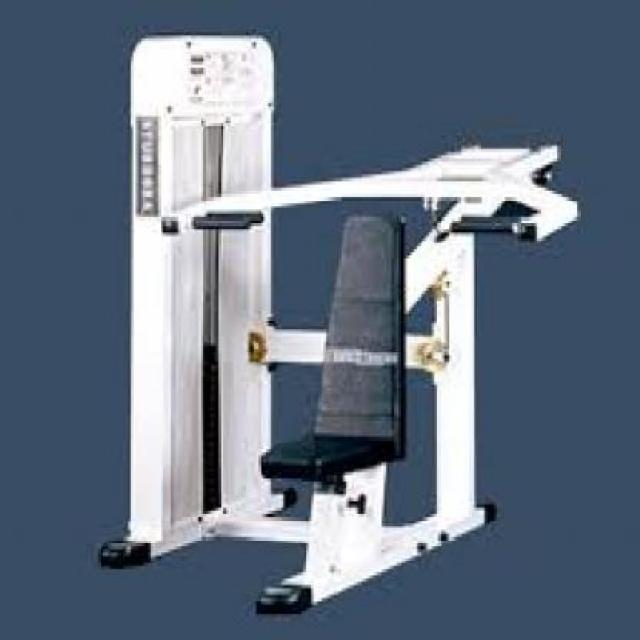shoulder press machine: (94, 25, 583, 629)
